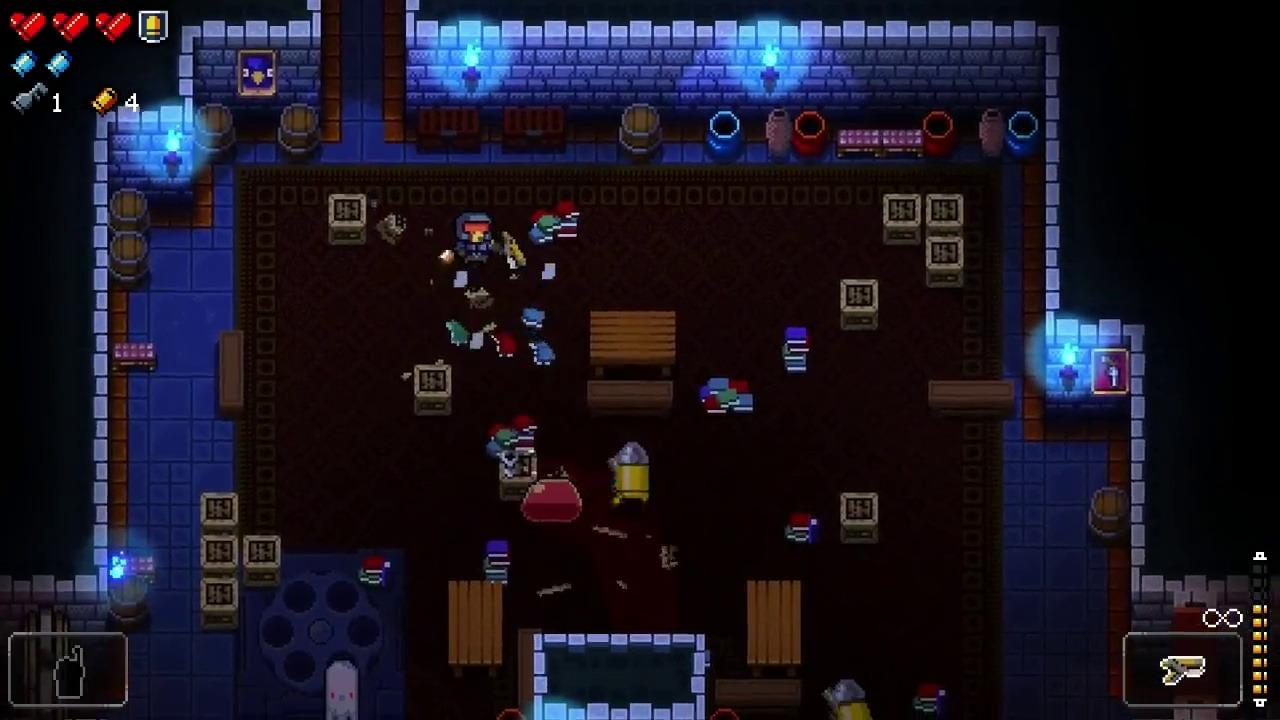blobulon_l: (520, 478, 582, 525)
bullet_kin: (616, 441, 649, 504), (835, 678, 873, 720)
hollowpoint: (325, 659, 359, 720)
player: (455, 214, 491, 265)
table: (591, 312, 676, 379), (447, 581, 503, 679), (747, 580, 801, 678)
teleporter: (239, 551, 406, 720)
